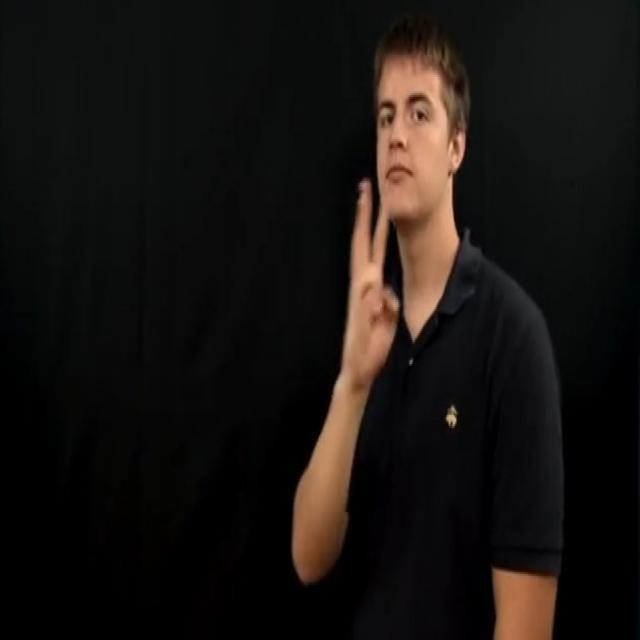water: (342, 176, 402, 392)
